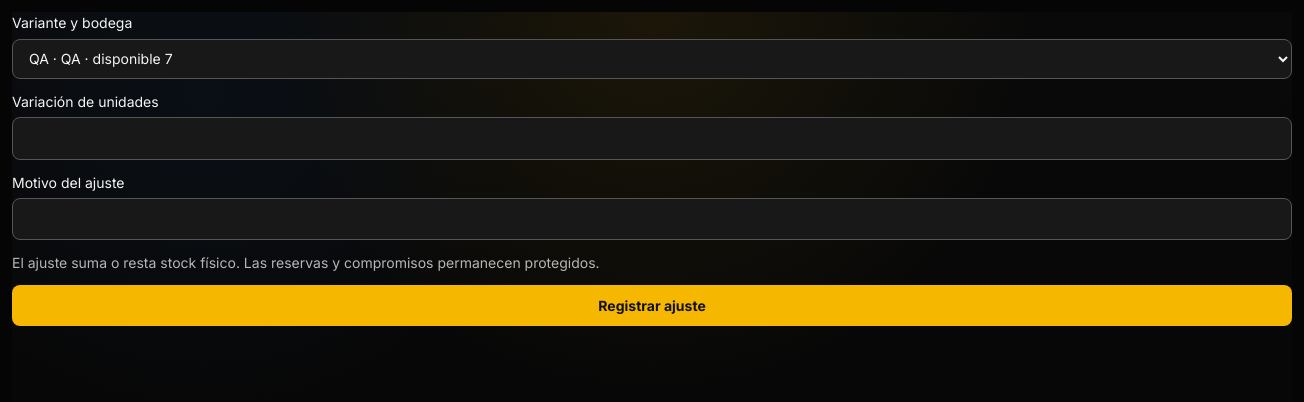
it: INV mutation observability without invented success › submits an exact PATCH with a stable explicit reference and refreshes after valid result
Type "5" into the number field labelled "Variación de unidades" at (652, 138), box [12,117,1292,160]
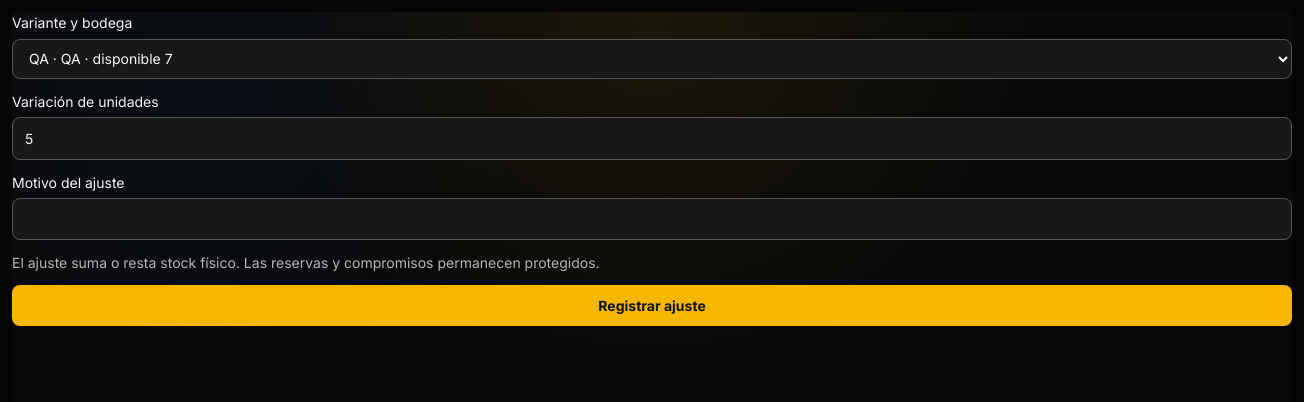
Type "Conteo verificado" into the field labelled "Motivo del ajuste" at (652, 219), box [12,198,1292,240]
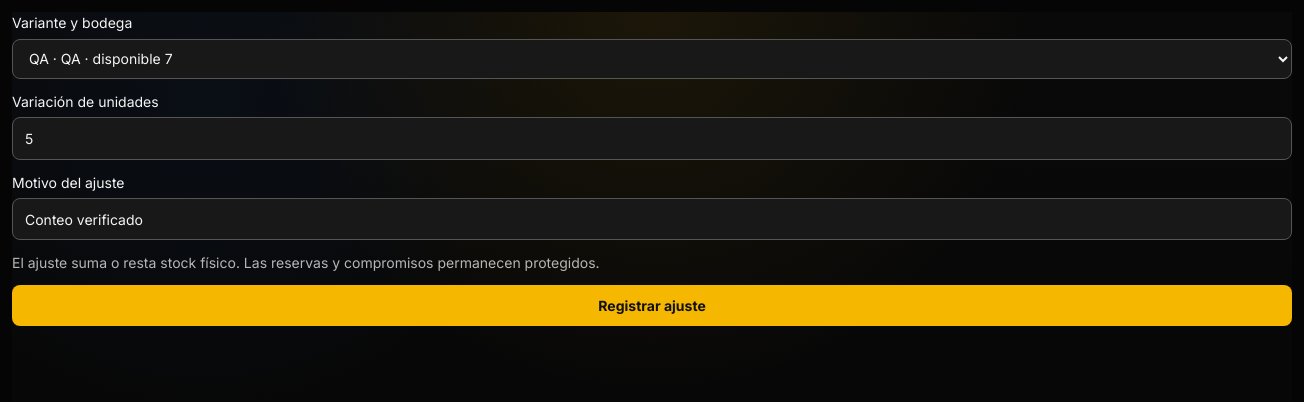
Submit the form named "Ajustar stock"
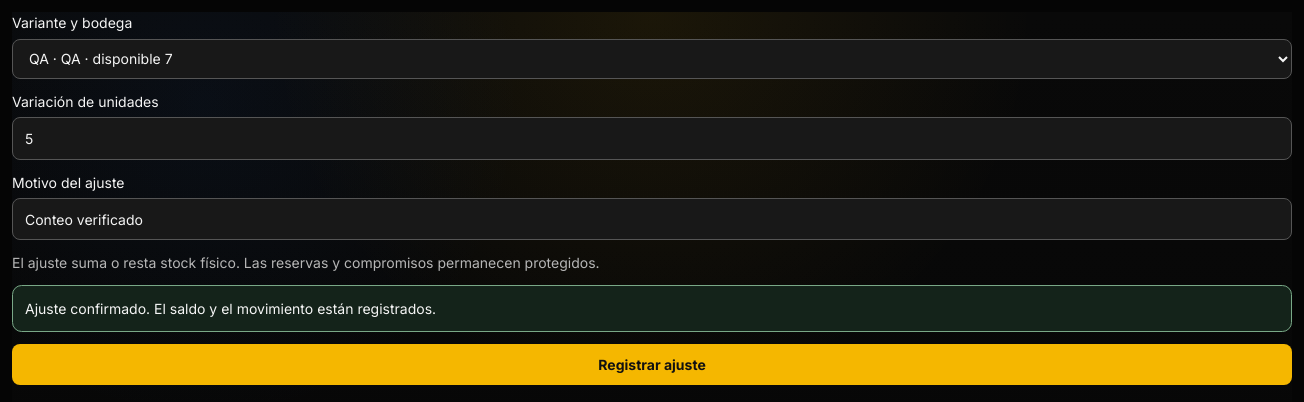
Now the message shows "Ajuste confirmado", box [25,300,436,317]
